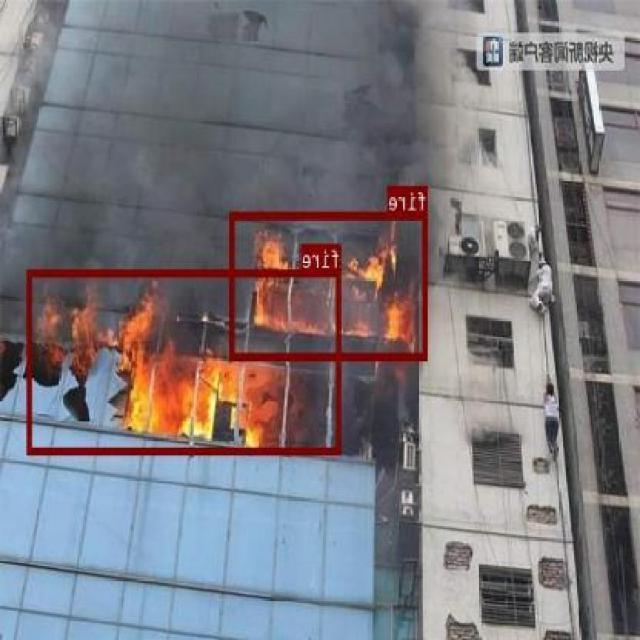Fire: (29, 268, 342, 452), (230, 212, 428, 360)
